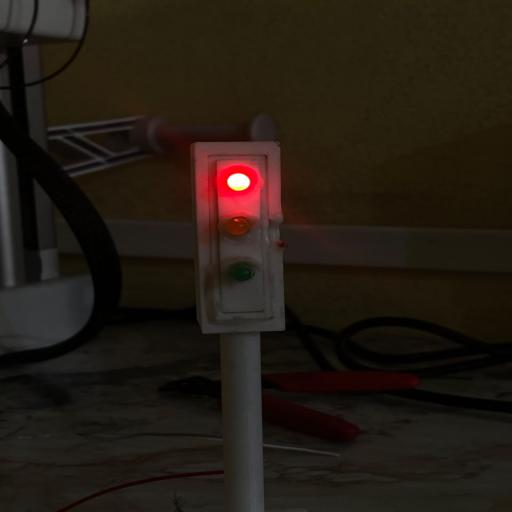Red Light: (218, 164, 262, 197), (227, 173, 250, 191)
